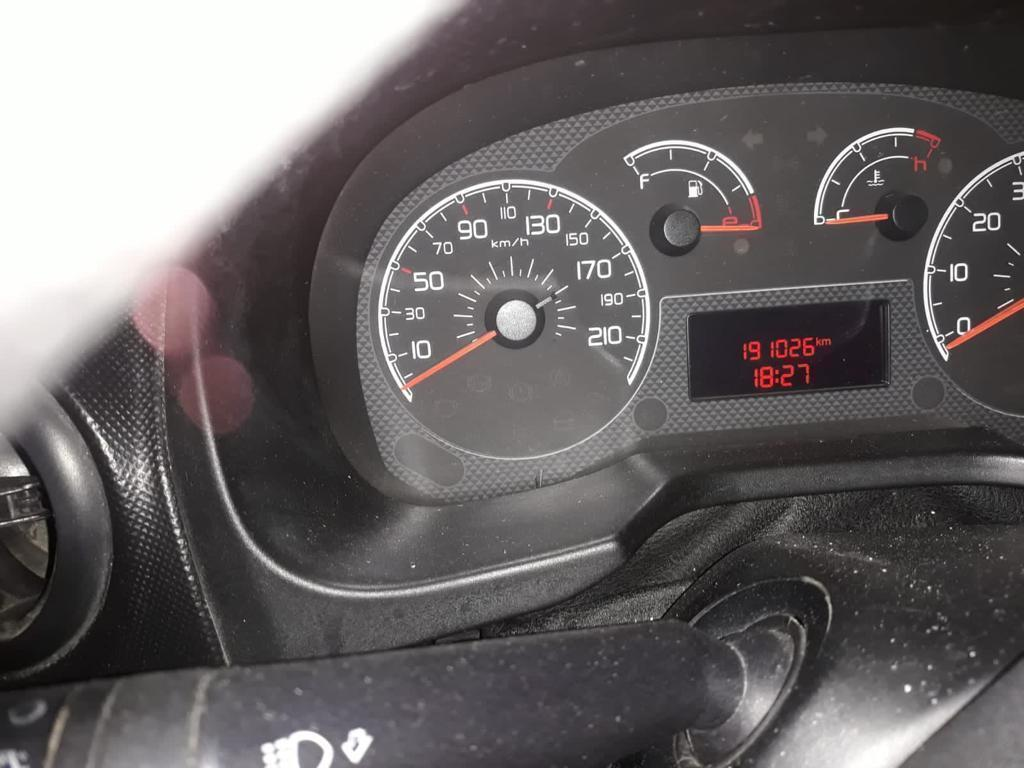0: (775, 338, 787, 359)
1: (742, 341, 748, 361), (753, 367, 758, 389), (769, 339, 774, 359)
2: (779, 363, 794, 387), (789, 337, 801, 357)
6: (802, 335, 815, 357)
7: (797, 362, 811, 385)
8: (759, 366, 773, 388)
9: (748, 339, 761, 360)
X: (822, 336, 832, 346), (774, 368, 779, 385), (815, 335, 821, 346)
odometer: (687, 291, 899, 406)
